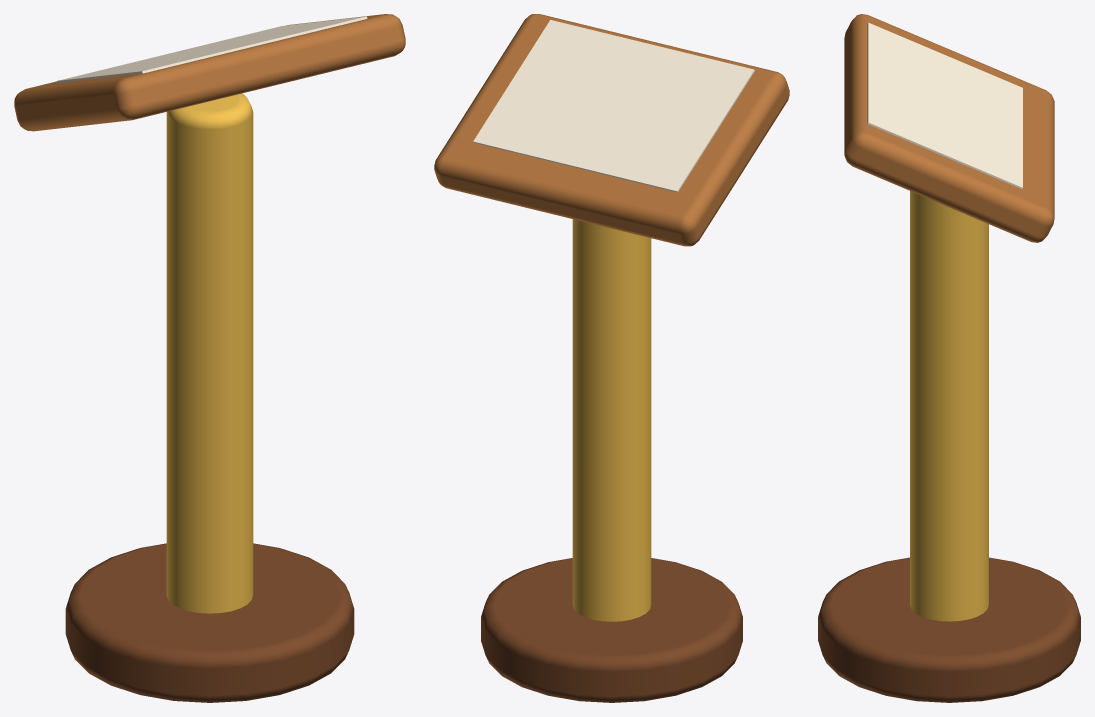
File: docent_stand.glb
3 views of the same model, side by side, from view 1: azimuth 30°, elevation 25°; view 2: azimuth 150°, elevation 25°; view 3: azimuth 270°, elevation 25° (orthographic). The views are drawn at different scales.
Visible parts, largest first — view 1: docent_stand; view 2: docent_stand; view 3: docent_stand.
Part boxes in pixels (bbox=[...]): docent_stand: bbox=[14, 14, 405, 702]; docent_stand: bbox=[434, 14, 789, 702]; docent_stand: bbox=[818, 14, 1080, 702].
Size of the model in its own units: 0.46 by 0.974 by 0.4.
